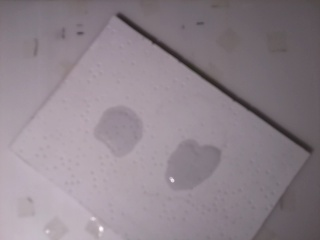Water_detected: (176, 149, 216, 190), (101, 112, 136, 149)
